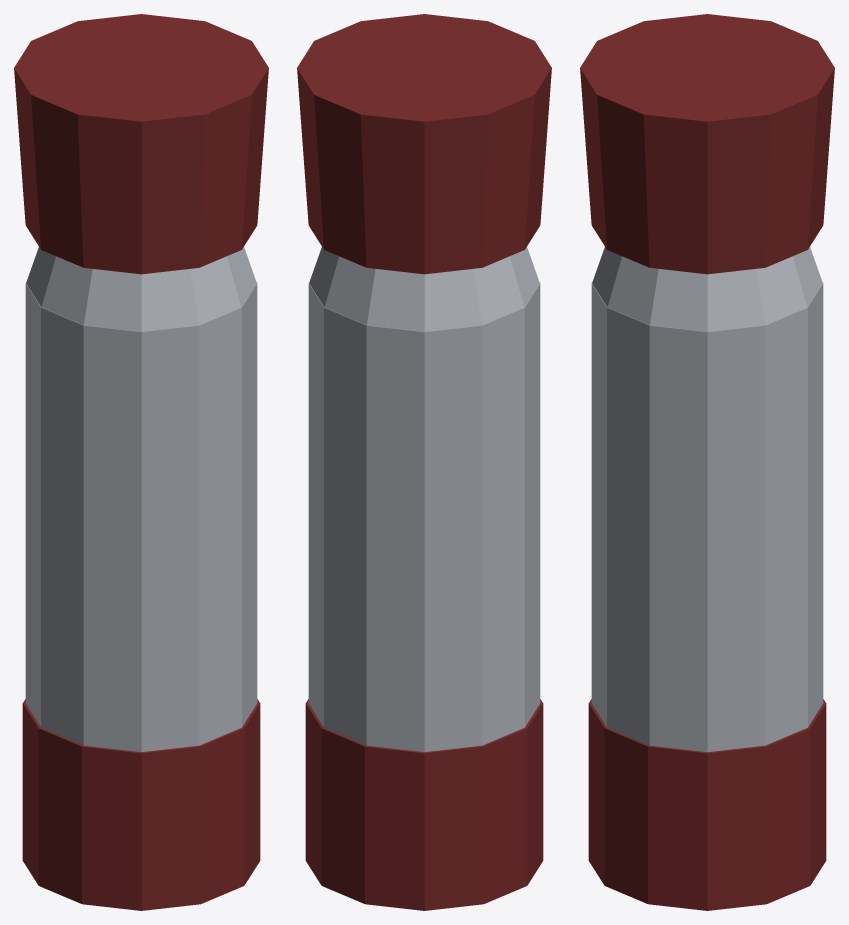
Rendered from flask-tea.glb.
3 renders of one model, left to right at view 1: azimuth 30°, elevation 25°; view 2: azimuth 150°, elevation 25°; view 3: azimuth 270°, elevation 25°, orthographic.
Parts seen in each view (by area): view 1: flask_tea; view 2: flask_tea; view 3: flask_tea.
Part boxes in pixels (box(x1,y1,x2,y2)): flask_tea: box(14, 14, 268, 910); flask_tea: box(297, 14, 551, 910); flask_tea: box(580, 14, 834, 910).
Size of the model in its own units: 0.088 by 0.302 by 0.088.
